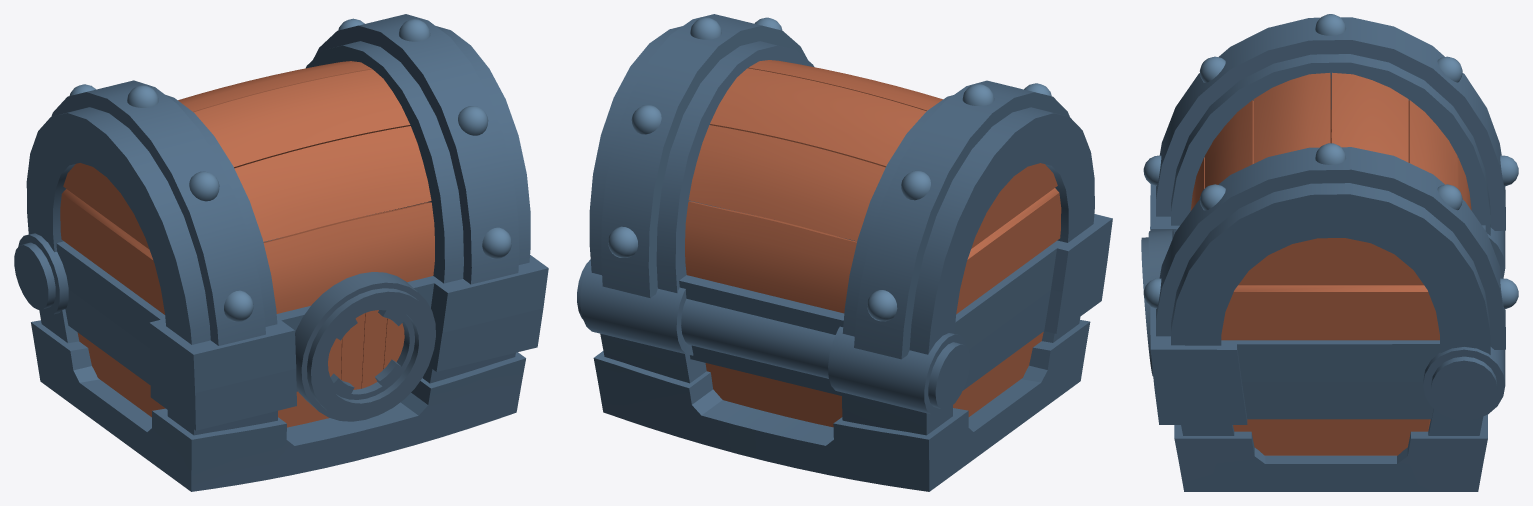
File: Chest C Multi.fbx
3 views of the same model, side by side, from view 1: azimuth 30°, elevation 25°; view 2: azimuth 150°, elevation 25°; view 3: azimuth 270°, elevation 25° (orthographic). The views are drawn at different scales.
Parts seen in each view (by area): view 1: Chest C Cover, Chest C, Chest C Icon; view 2: Chest C Cover, Chest C; view 3: Chest C Cover, Chest C, Chest C Icon.
Boxes of the visible parts, <box> form: Chest C Cover: <box>14,14,548,392</box>; Chest C: <box>31,289,543,491</box>; Chest C Icon: <box>295,272,435,421</box>; Chest C Cover: <box>577,14,1112,415</box>; Chest C: <box>593,238,1107,491</box>; Chest C Cover: <box>1143,14,1518,420</box>; Chest C: <box>1154,382,1487,491</box>; Chest C Icon: <box>1141,229,1174,376</box>.
Bounding box in the file's own units: 2.93 × 2.71 × 2.7.
